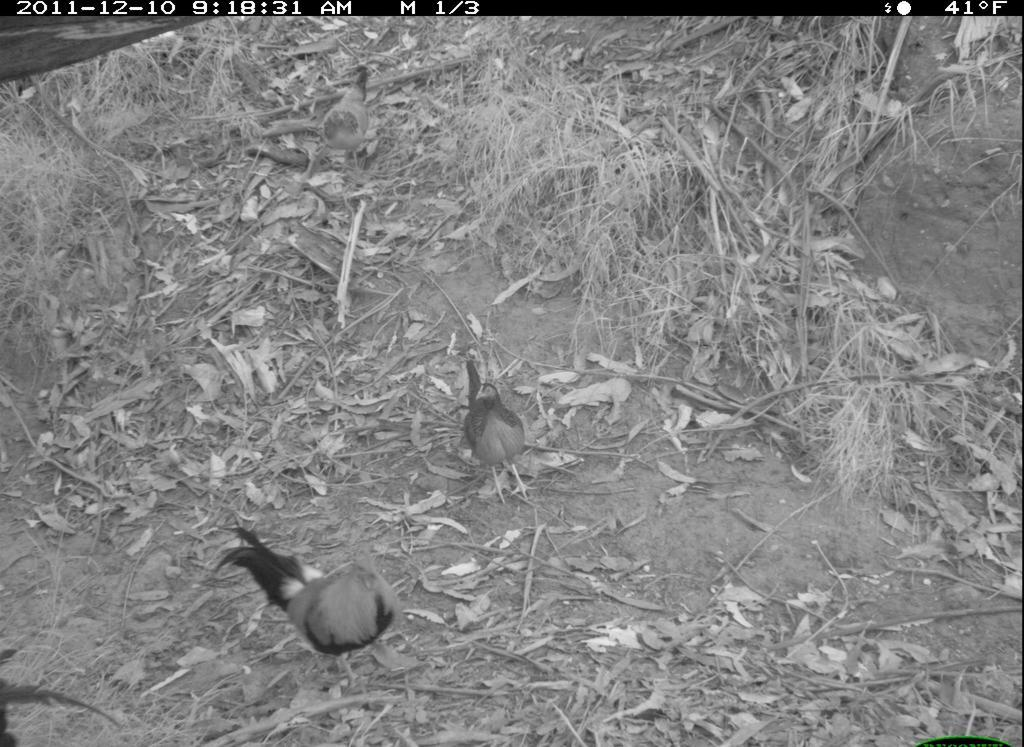bird: (200, 514, 413, 671), (450, 338, 553, 517)
